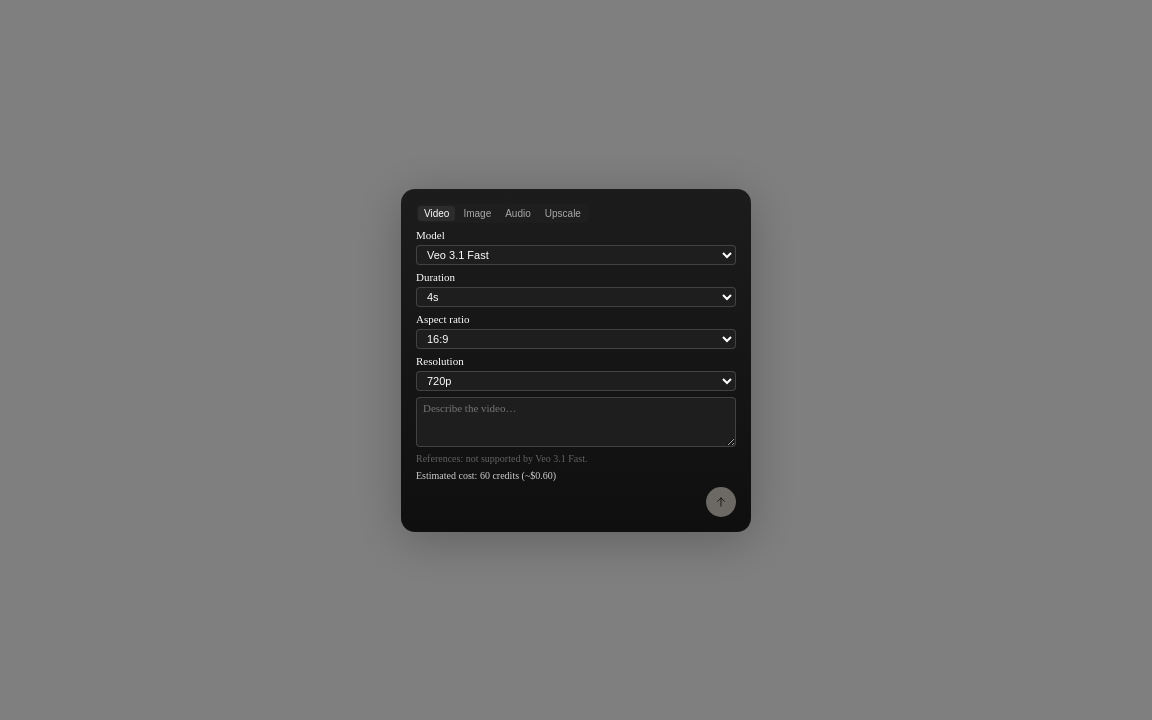
it: references: not supported by any current model (M14C follow-up) › upscale tab: no zone and no unsupported hint (untouched single-source flow)
Click the button with test id "gen-kind-tab-upscale": (563, 213) [539,206,587,220]
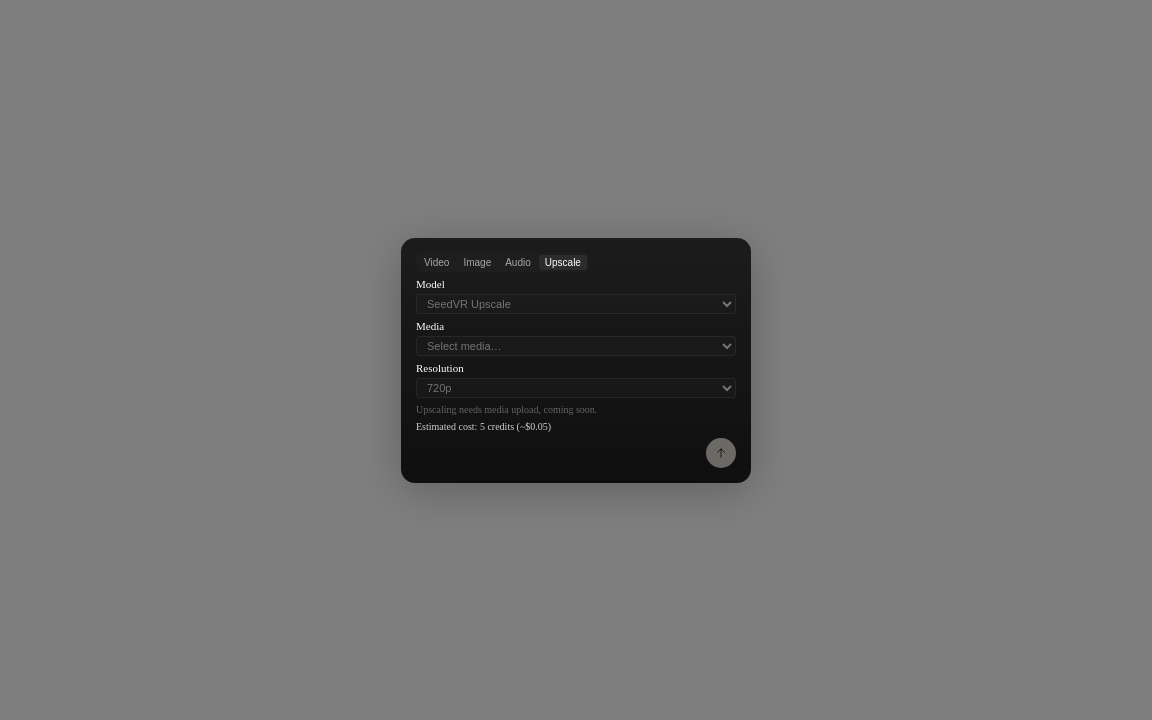
Expected: the text "Upscaling needs media upload, coming soon." is shown, [416,404,597,414]
Expected: the text with test id "gen-references-unsupported" is gone
